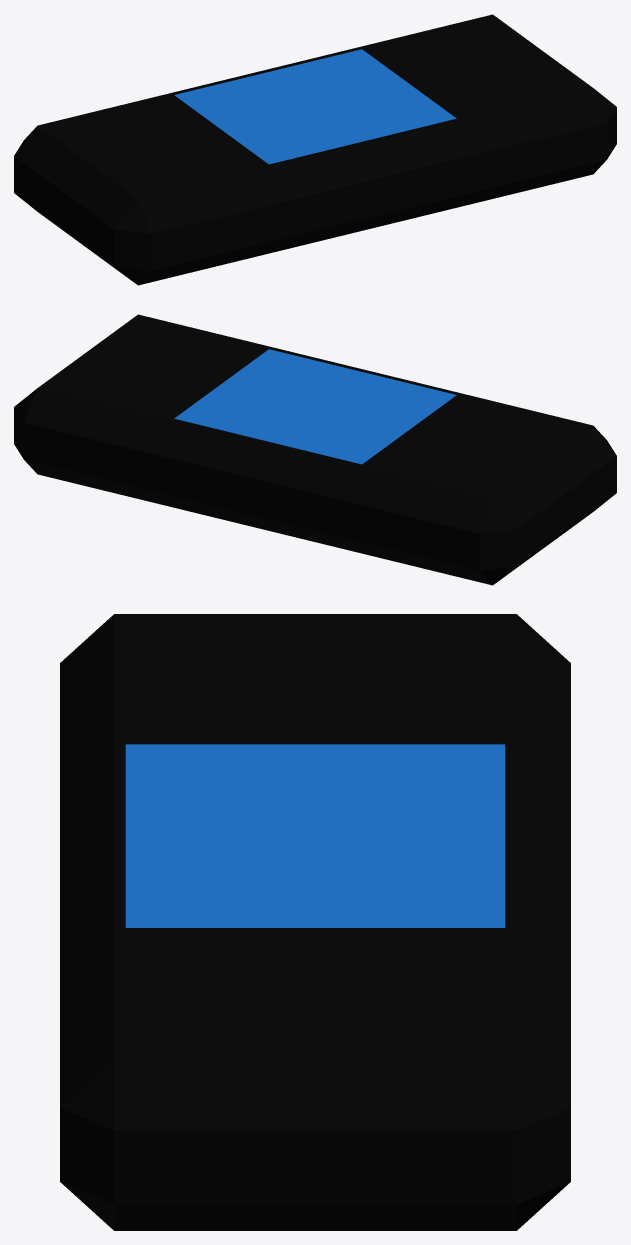
File: SM_mozzarella.fbx
The picture shows the model from 3 angles, top to bottom: view 1: azimuth 30°, elevation 25°; view 2: azimuth 150°, elevation 25°; view 3: azimuth 270°, elevation 25°; orthographic projection. The views are drawn at different scales.
Visible parts, largest first — view 1: Cube_18; view 2: Cube_18; view 3: Cube_18.
Part boxes in pixels (box(x1,y1,x2,y2)): Cube_18: box(14, 14, 616, 285); Cube_18: box(14, 314, 616, 585); Cube_18: box(60, 614, 570, 1230).
Bounding box in the file's own units: 21.86 × 3.59 × 9.63.
